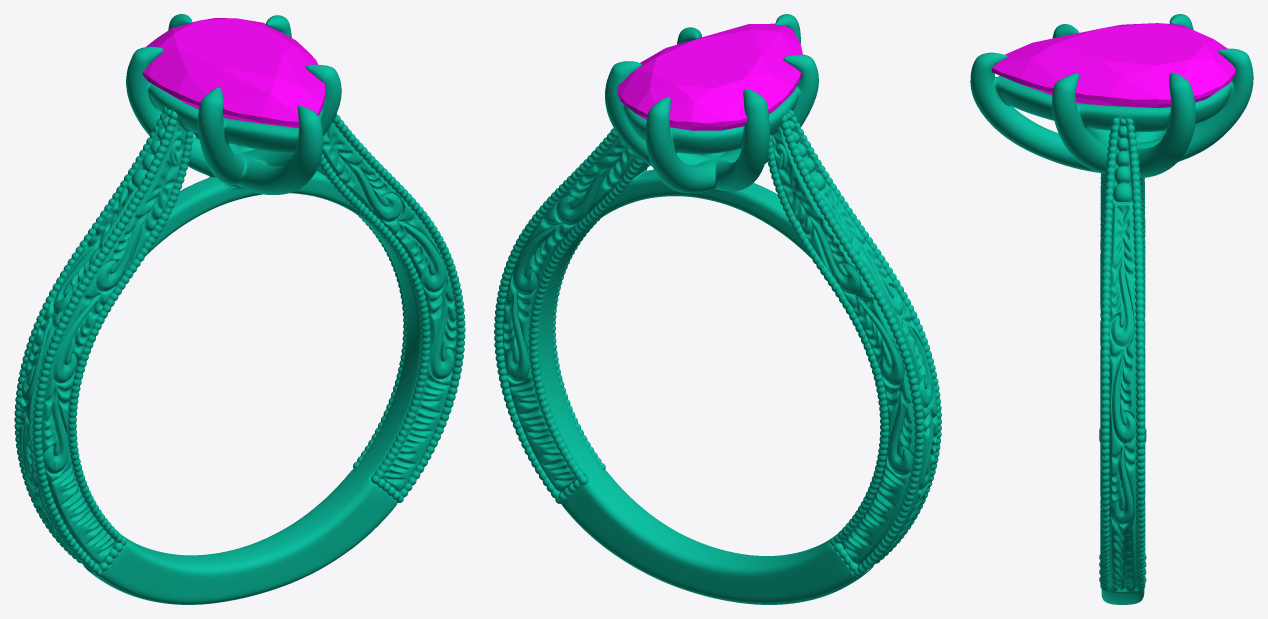
File: BE1342_PE_200ct_RENDER.glb
3 renders of one model, left to right at view 1: azimuth 30°, elevation 25°; view 2: azimuth 150°, elevation 25°; view 3: azimuth 270°, elevation 25°, orthographic.
Parts seen in each view (by area): view 1: Metal 01, CS_Diamond_Pear; view 2: Metal 01, CS_Diamond_Pear; view 3: Metal 01, CS_Diamond_Pear.
Boxes of the visible parts, x1=… form: Metal 01: x1=14, y1=14, x2=465, y2=604; CS_Diamond_Pear: x1=142, y1=18, x2=325, y2=128; Metal 01: x1=494, y1=14, x2=941, y2=604; CS_Diamond_Pear: x1=617, y1=23, x2=802, y2=154; Metal 01: x1=970, y1=14, x2=1253, y2=604; CS_Diamond_Pear: x1=991, y1=23, x2=1235, y2=108.
Bounding box in the file's own units: 20.82 × 24.93 × 11.98.
